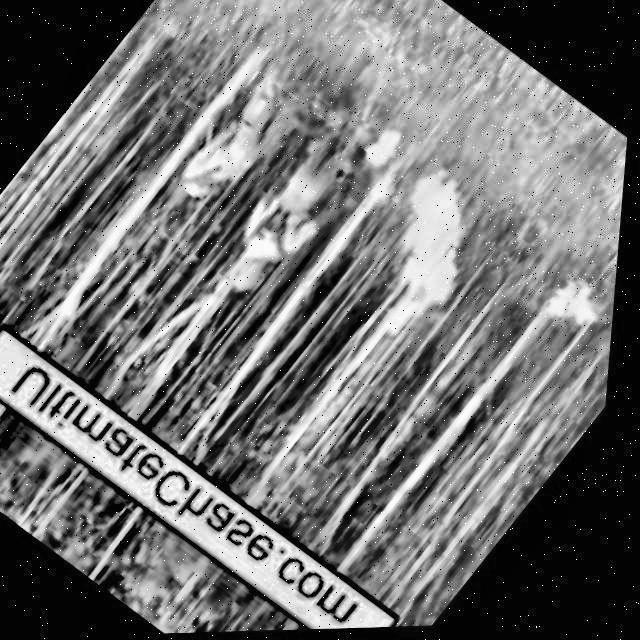Fire: (346, 163, 519, 334), (347, 132, 428, 212), (545, 278, 615, 344)
